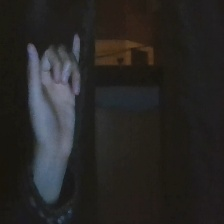Y: (20, 25, 89, 164)
